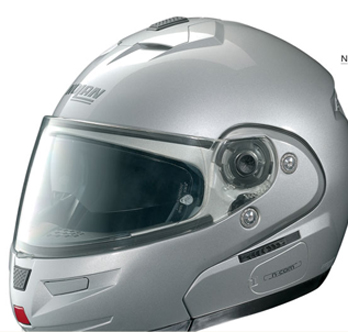helmet: (28, 18, 340, 302)
